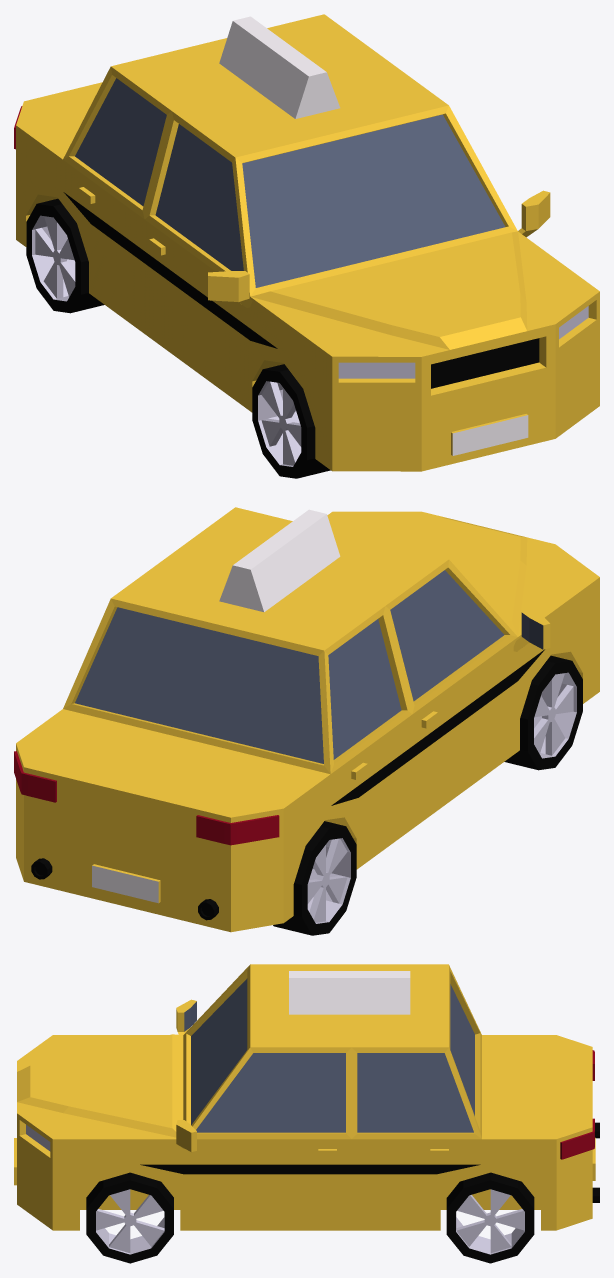
File: Taxi.glb
3 renders of one model, top to bottom at view 1: azimuth 30°, elevation 25°; view 2: azimuth 150°, elevation 25°; view 3: azimuth 270°, elevation 25°, orthographic. The views are drawn at different scales.
Parts seen in each view (by area): view 1: Taxi; view 2: Taxi; view 3: Taxi.
Boxes of the visible parts, <box> form: Taxi: <box>14,14,599,478</box>; Taxi: <box>14,507,599,935</box>; Taxi: <box>14,964,599,1263</box>.
Size of the model in its own units: 0.6106 by 0.5033 by 1.14.
